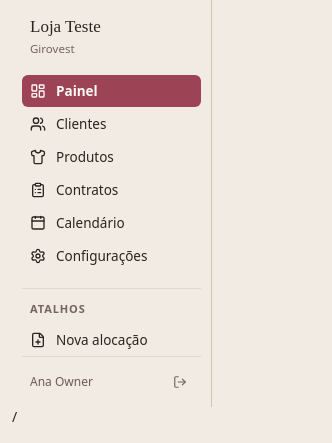
it: Sidebar › navigates to the new-contract form from the rail shortcut
Expected: the text with test id "location" reads "/", 12,407 -> 17,426
What coordinates should you click on to do the following:
click the button "Nova alocação"
I would click on:
 (112, 340)
Its box is 22,324 -> 201,356.
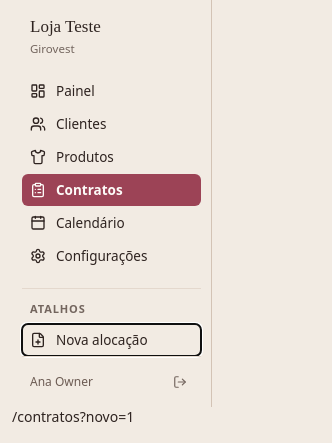
Expected: the text with test id "location" reads "/contratos?novo=1", 12,407 -> 134,426
